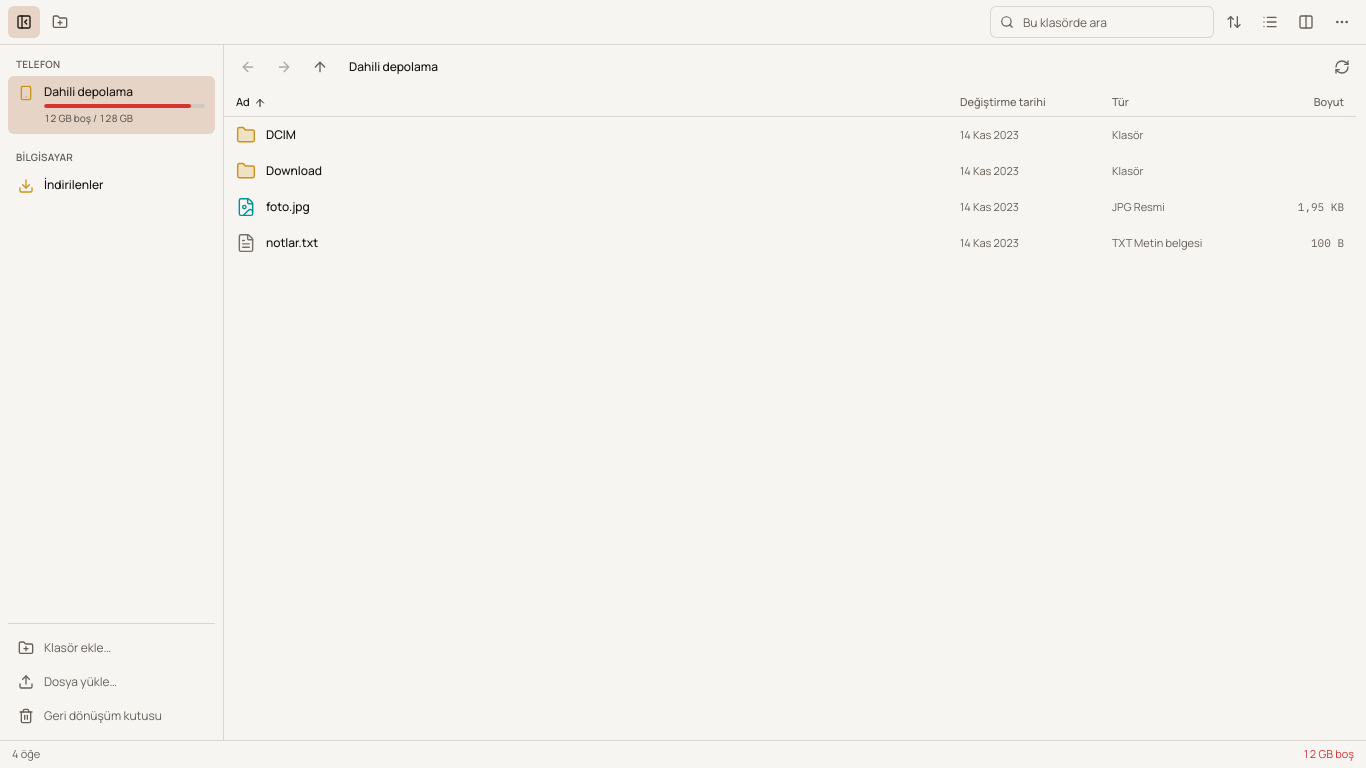
it: uçtan uca akışlar › özellikler penceresi izin bitlerini gösterir; geri dönüşüm kutusu listelenir
Press the mouse on the text "notlar.txt" at point(292, 243), box [266,235,318,251]
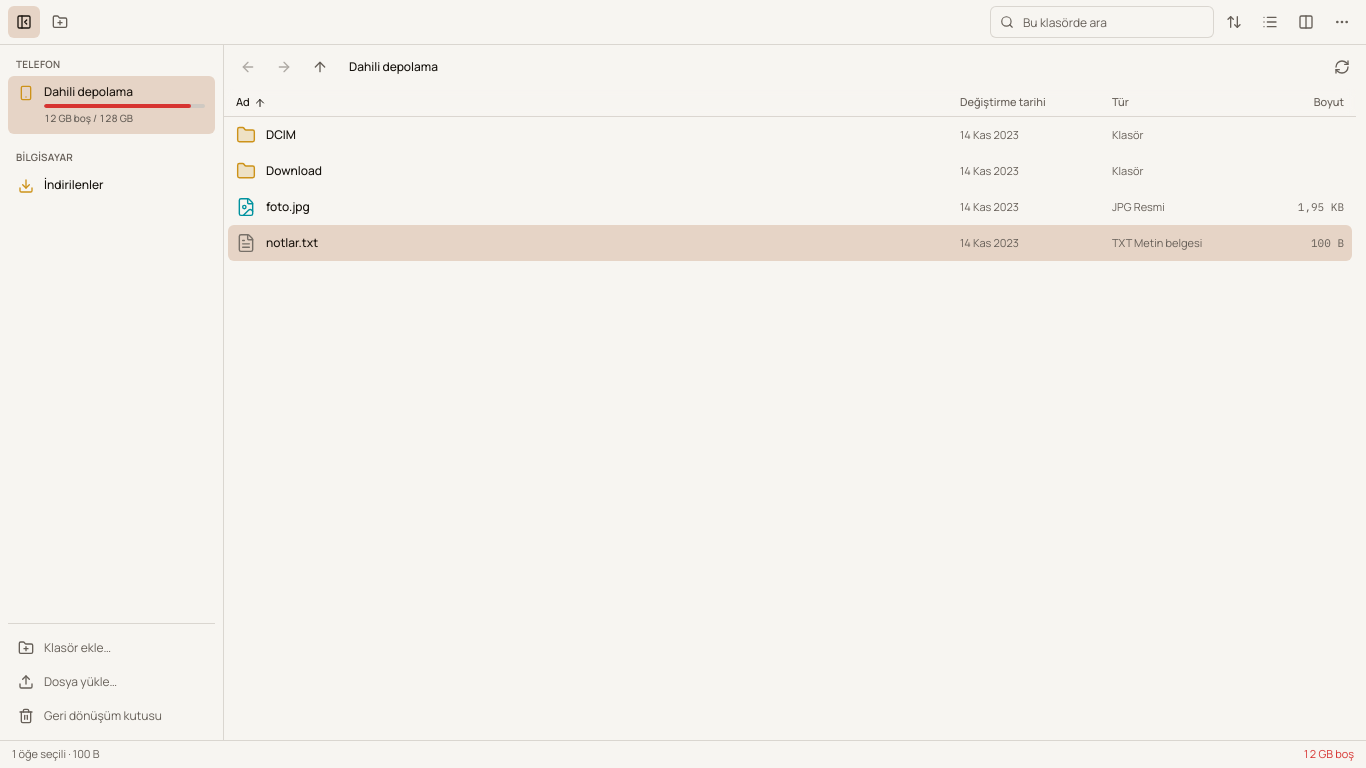
Press Enter in the table named "Dosyalar", box [224,89,1356,261]
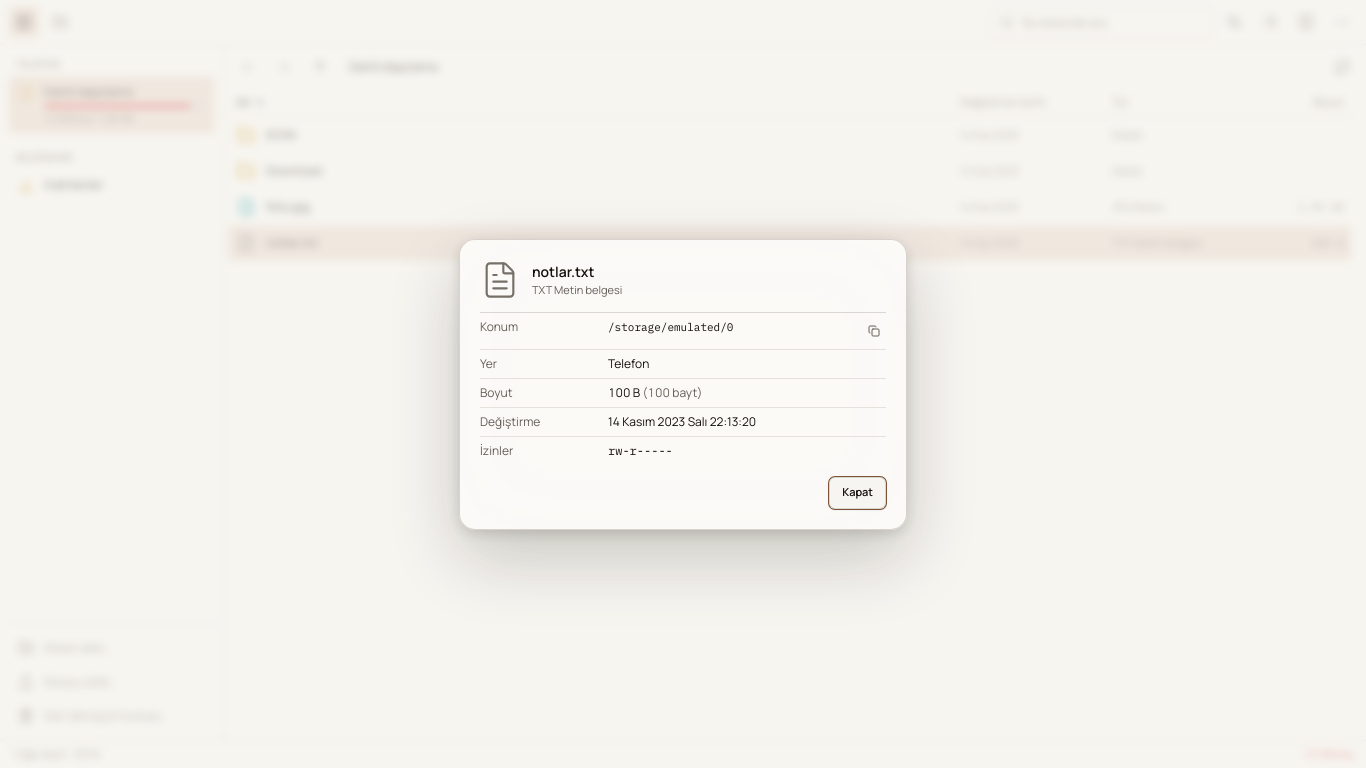
Expected: the text "rw-r-----" is shown, [608,442,673,458]
Click the button "Kapat". click: point(858, 492)
box: [829,476,886,508]
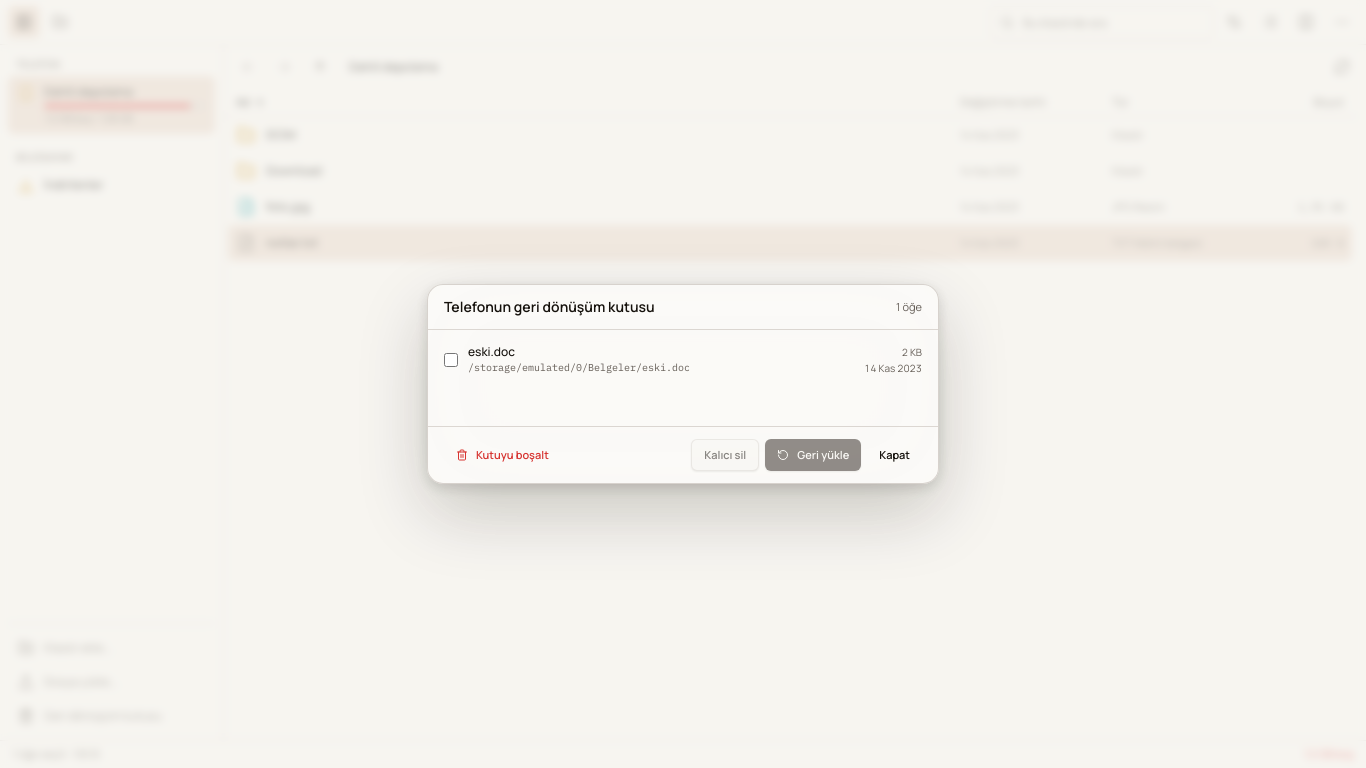
Expected: the text "eski.doc" is shown, [468,343,515,360]
